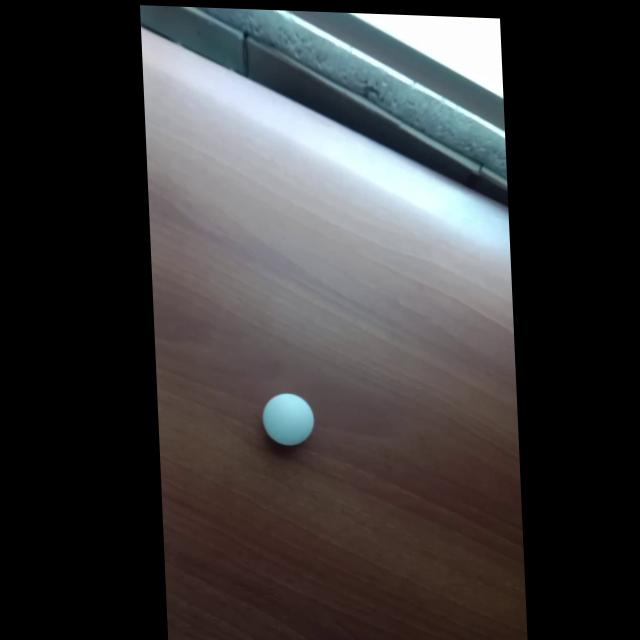white ball: (261, 392, 315, 448)
